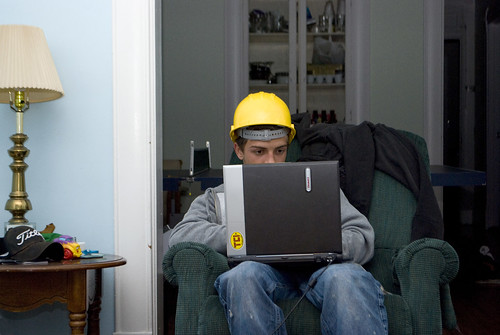person hardhat: (168, 90, 395, 335)
